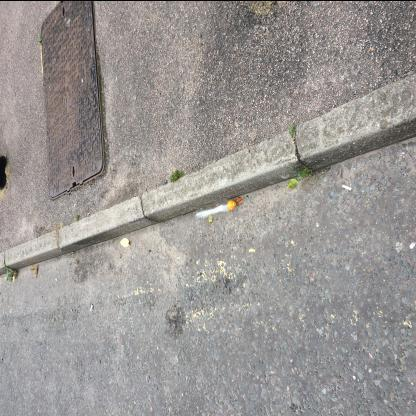plastik: (196, 198, 238, 224)
